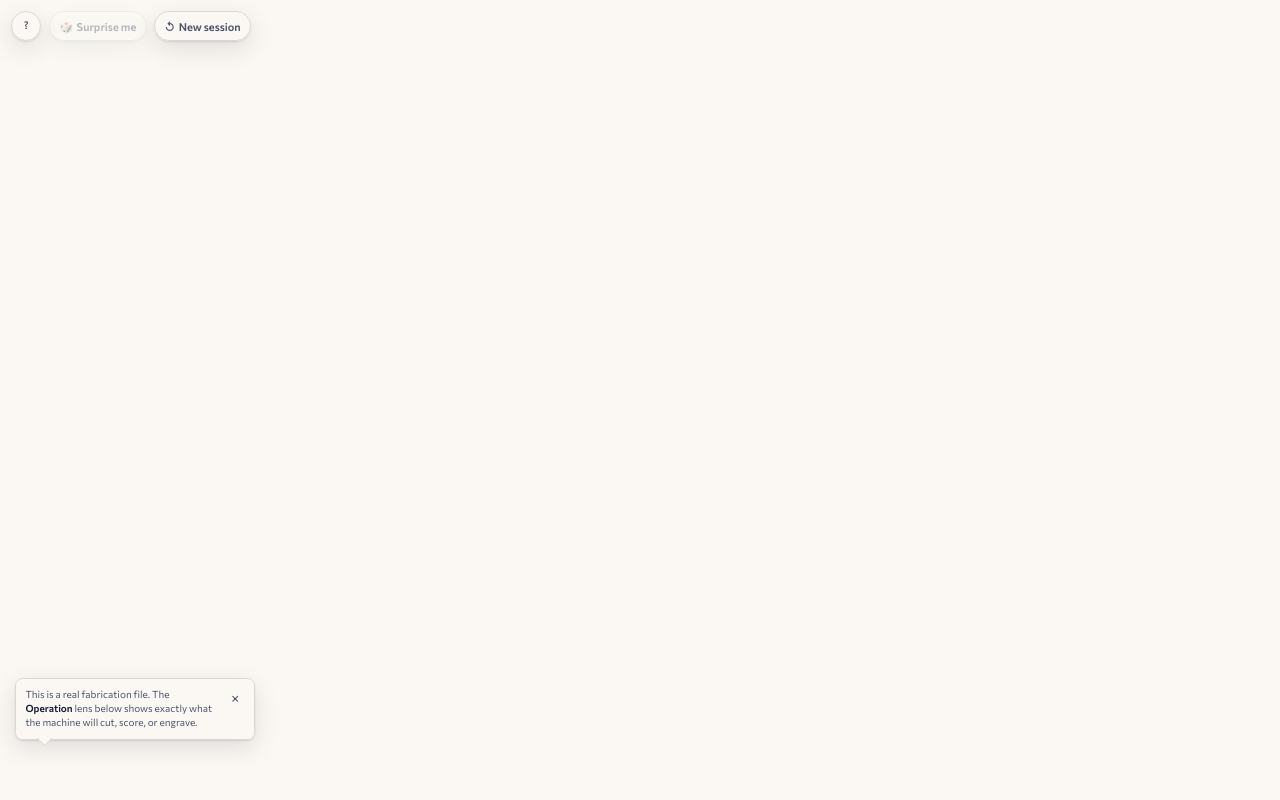
Test: GuestOnboarding — P0-C "New session / hand to next person" (D18) › a single click only ARMS the confirm dialog — does not reset anything yet
The width and height of the screenshot is (1280, 800).
Click the button with aria-label "start a new session": (203, 26) top-left (154, 11), bottom-right (251, 41)
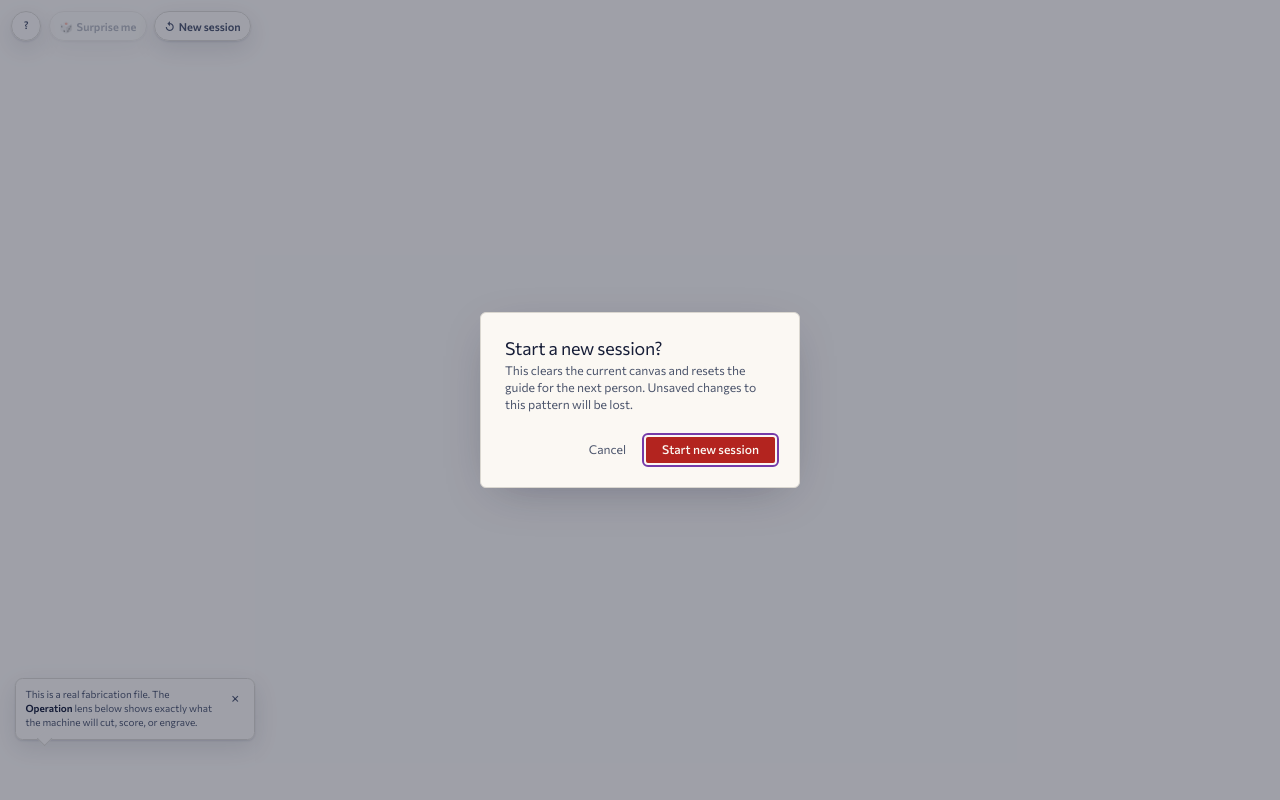
Now the dialog is shown, box top-left (480, 312), bottom-right (800, 488)
